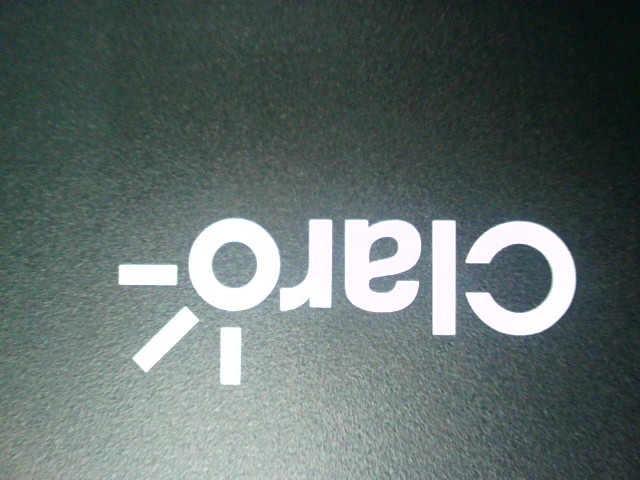BC_Claor: (114, 196, 580, 387)
